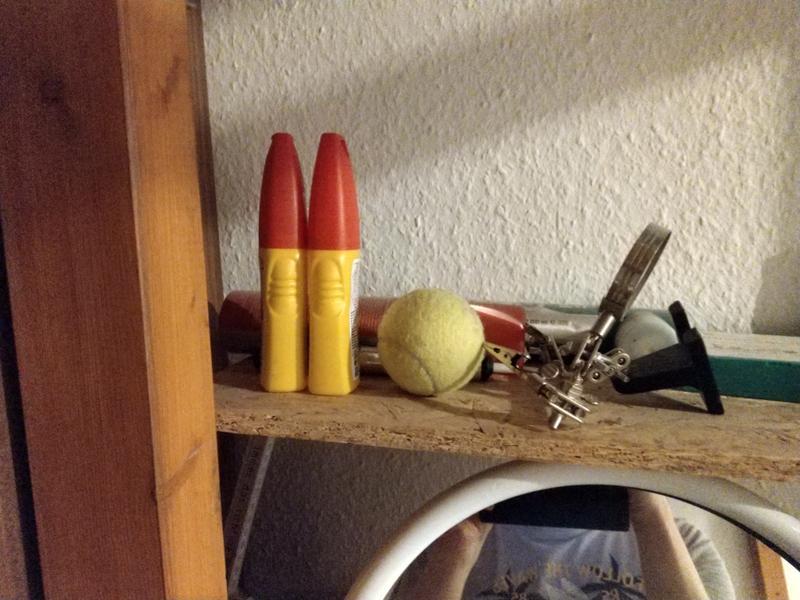Tennisball: (374, 284, 489, 404)
